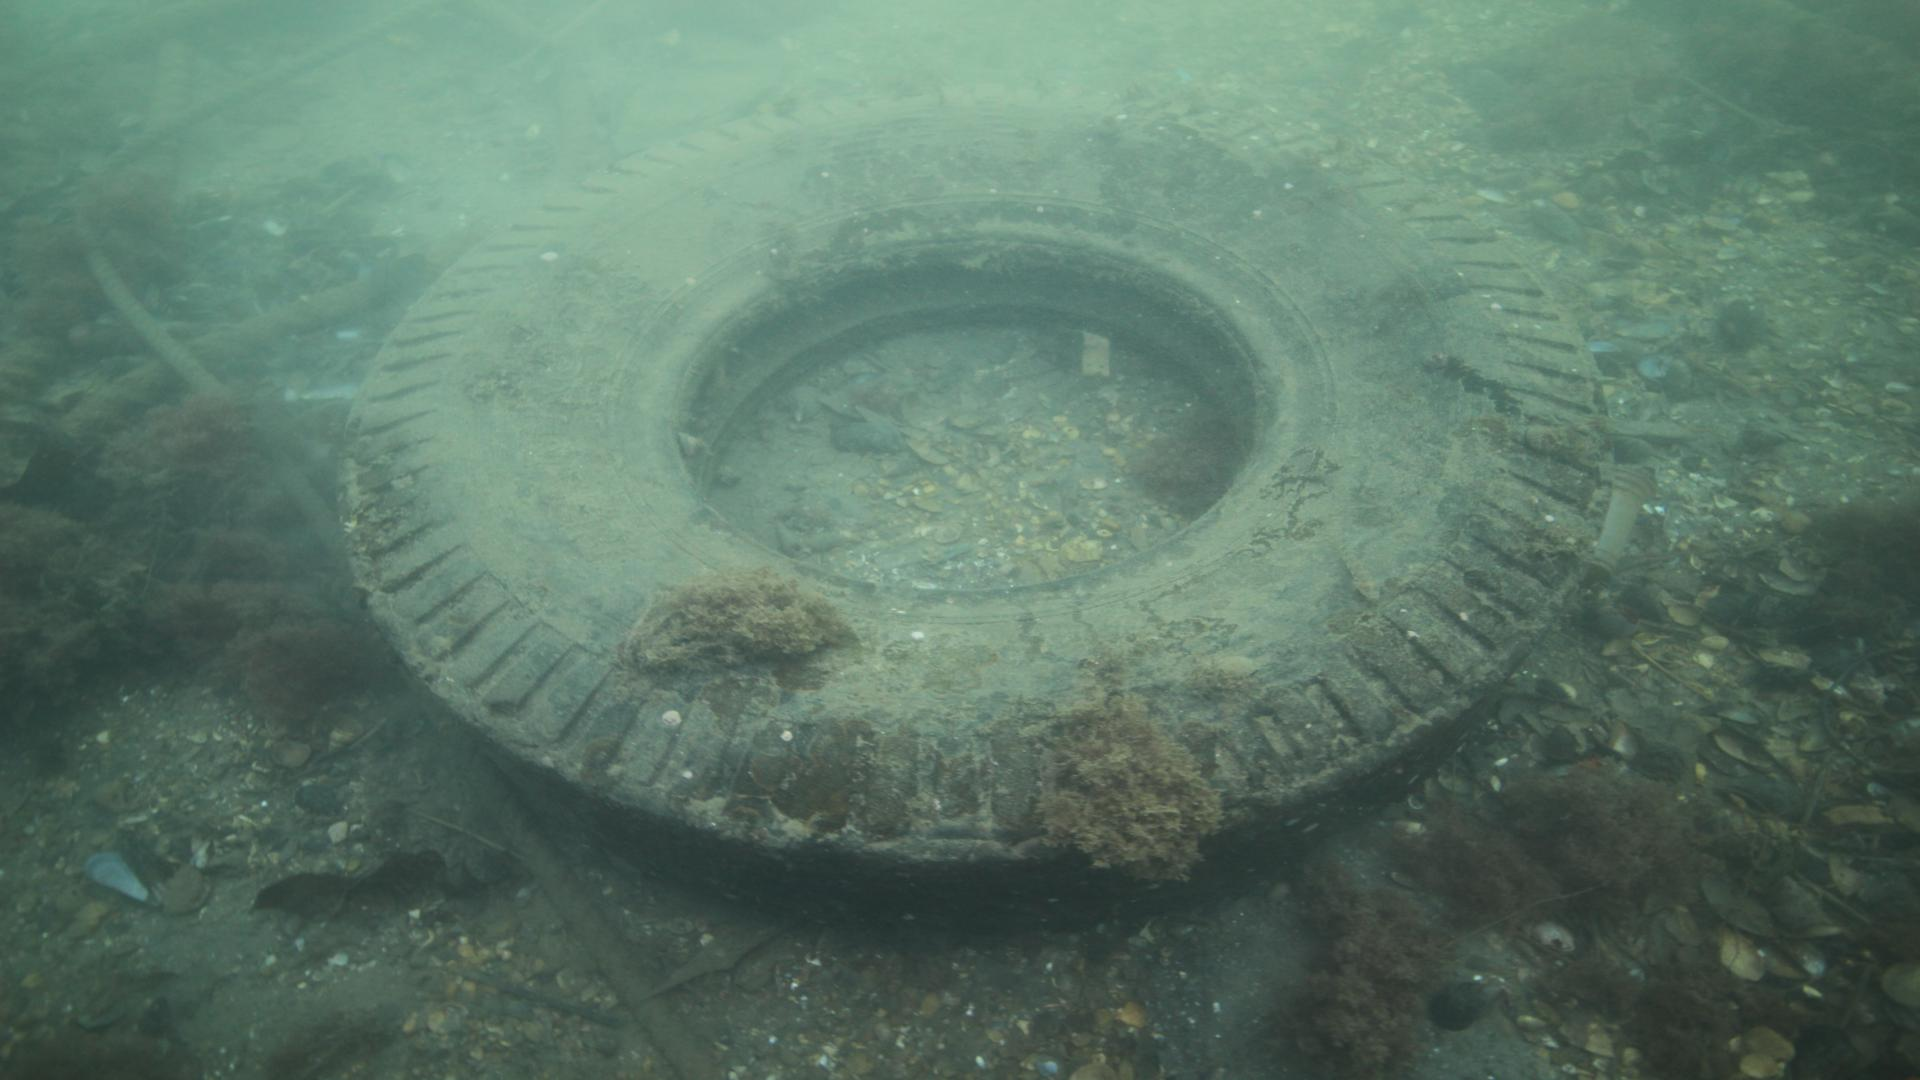rope: (73, 3, 444, 546), (393, 658, 735, 1080)
tire: (336, 84, 1618, 932)
